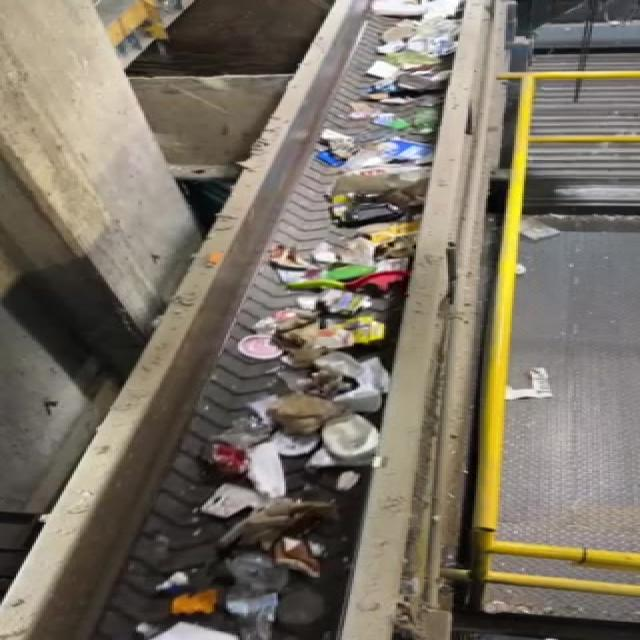metal: (197, 436, 259, 487)
ps: (321, 411, 410, 463)
